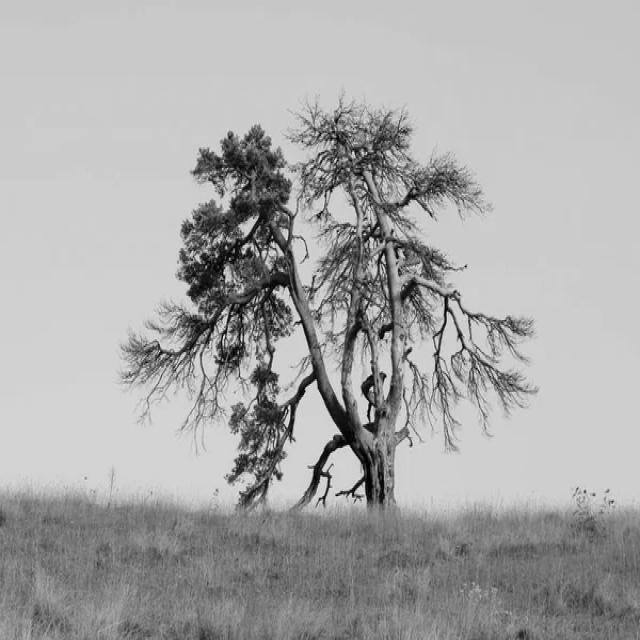Tree: (121, 100, 534, 507)
